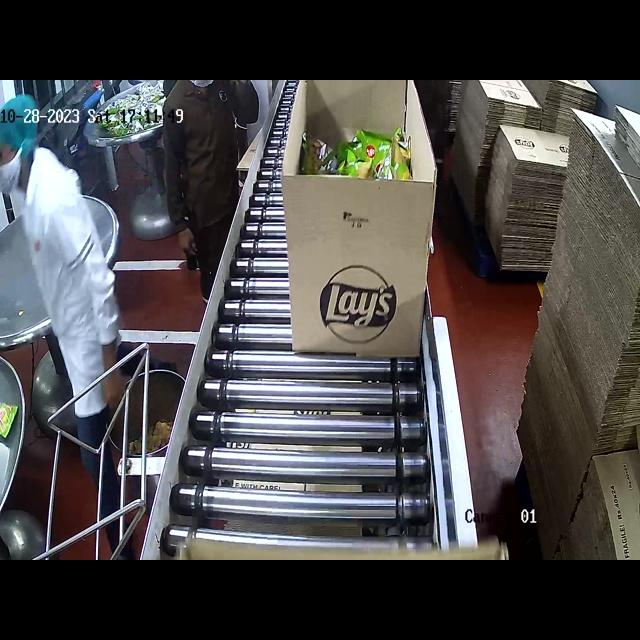yogurt: (307, 111, 412, 193)
